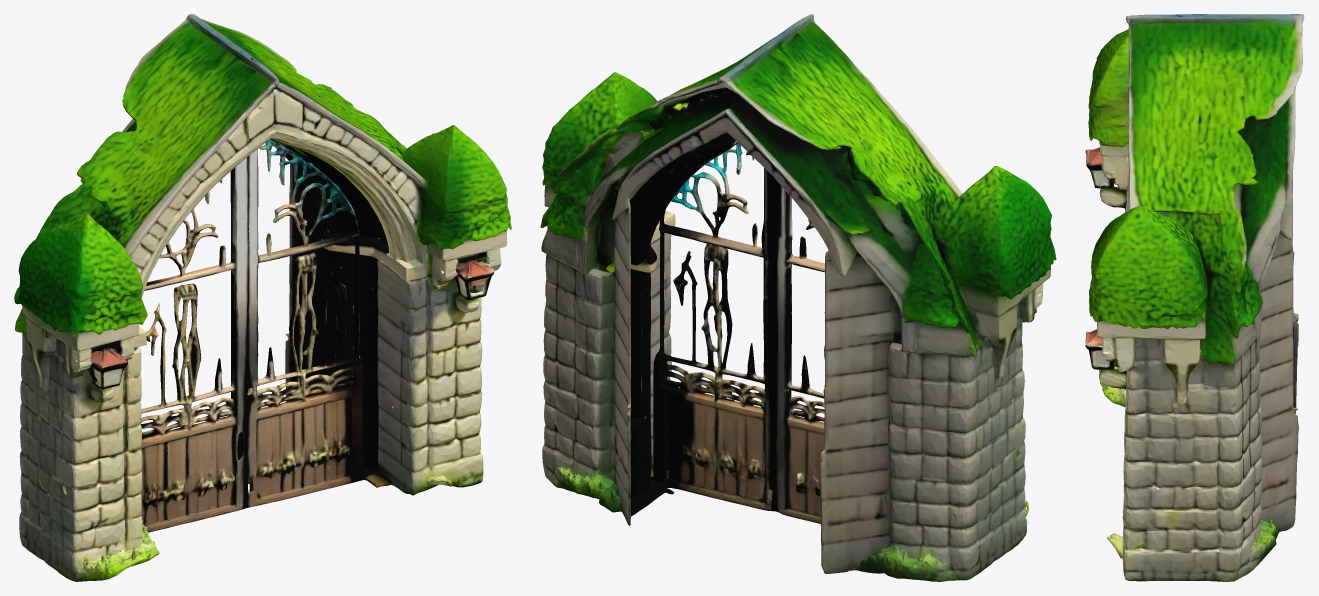
Rendered from landmark_graveyard_gate.glb.
The picture shows the model from 3 angles, left to right: view 1: azimuth 30°, elevation 25°; view 2: azimuth 150°, elevation 25°; view 3: azimuth 270°, elevation 25°; orthographic projection. The views are drawn at different scales.
Parts seen in each view (by area): view 1: geometry_0; view 2: geometry_0; view 3: geometry_0.
Boxes of the visible parts, x1,y1,x2,y2 form: geometry_0: (14, 14, 511, 581); geometry_0: (540, 14, 1056, 581); geometry_0: (1085, 14, 1304, 581).
Size of the model in its own units: 1 by 0.9645 by 0.411.
1 material, 1 textured.
